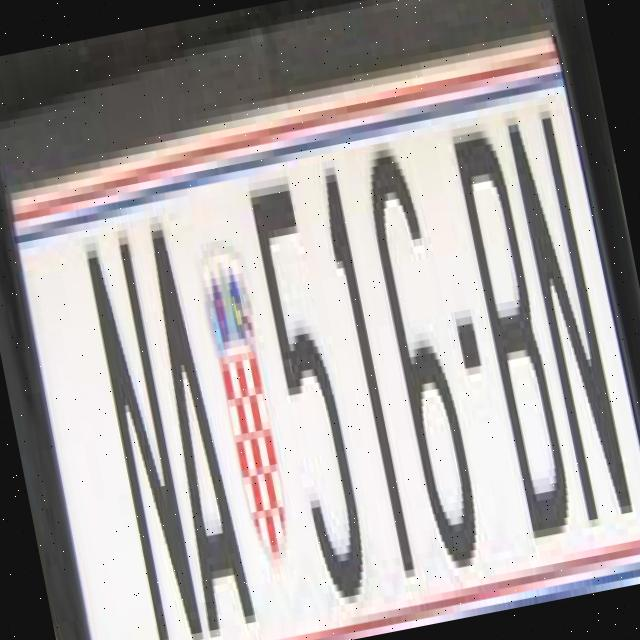Autre: (8, 75, 640, 640)
